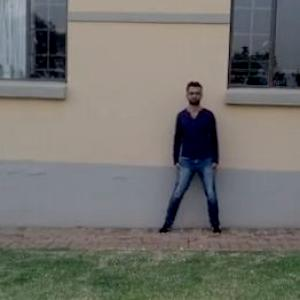follow: (174, 79, 221, 237)
